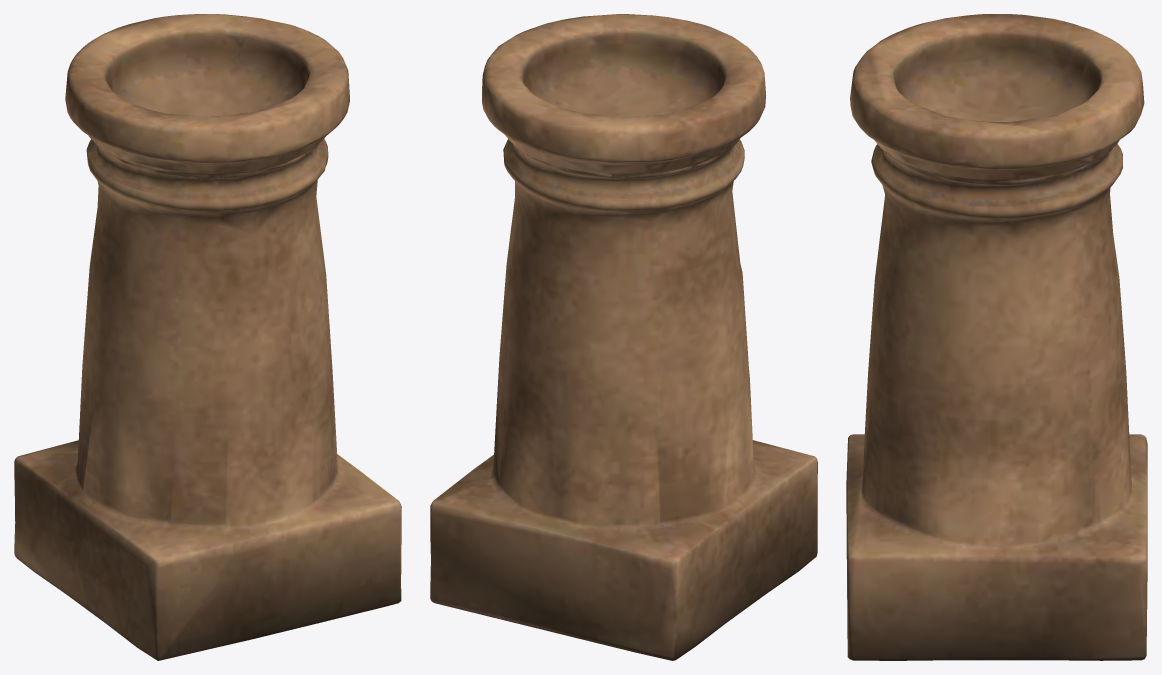
The model's file is rustic-sandstone-chimney-stack-v001.glb.
The picture shows the model from 3 angles, left to right: view 1: azimuth 30°, elevation 25°; view 2: azimuth 150°, elevation 25°; view 3: azimuth 270°, elevation 25°; orthographic projection. The views are drawn at different scales.
Parts seen in each view (by area): view 1: rustic-sandstone-chimney-stack; view 2: rustic-sandstone-chimney-stack; view 3: rustic-sandstone-chimney-stack.
Boxes of the visible parts, x1,y1,x2,y2 form: rustic-sandstone-chimney-stack: (14, 14, 401, 660); rustic-sandstone-chimney-stack: (430, 14, 817, 660); rustic-sandstone-chimney-stack: (846, 14, 1147, 660).
Bounding box in the file's own units: 0.7912 × 1.55 × 0.802.
Materials: 1 (1 with a texture image).
